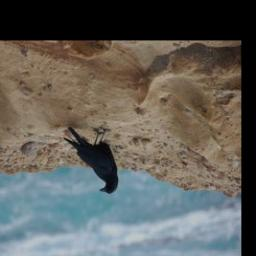Crow: (64, 125, 119, 198)
